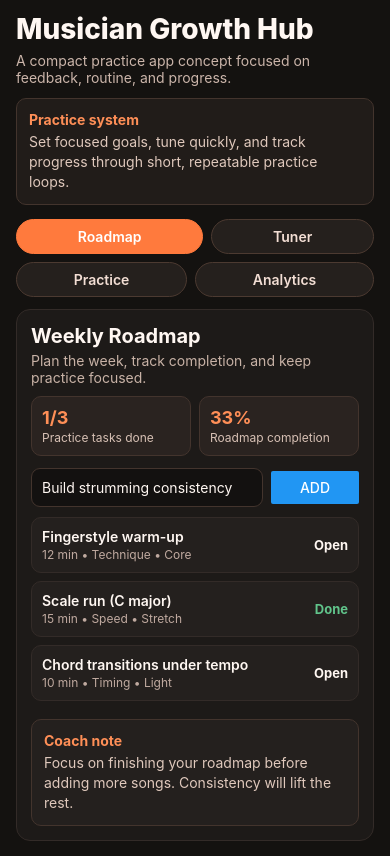
App › adds and completes a roadmap item
Replace the text in the field named "new practice goal" with "Lock in barre chords". click: (147, 488)
box: [31, 468, 263, 507]
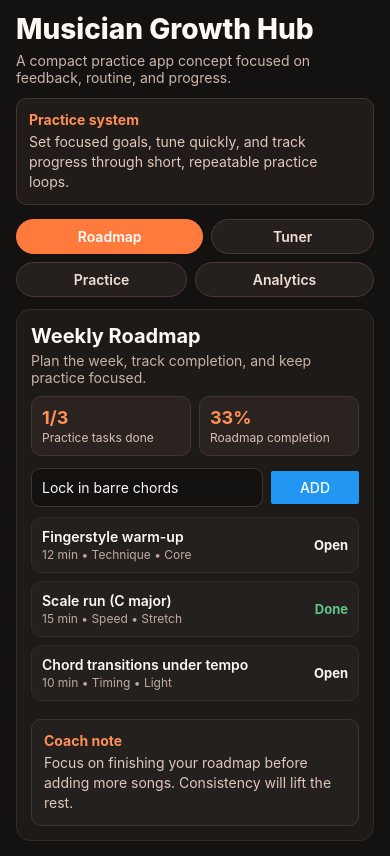
Click the button "Add". click: (315, 488)
box: [271, 471, 359, 504]
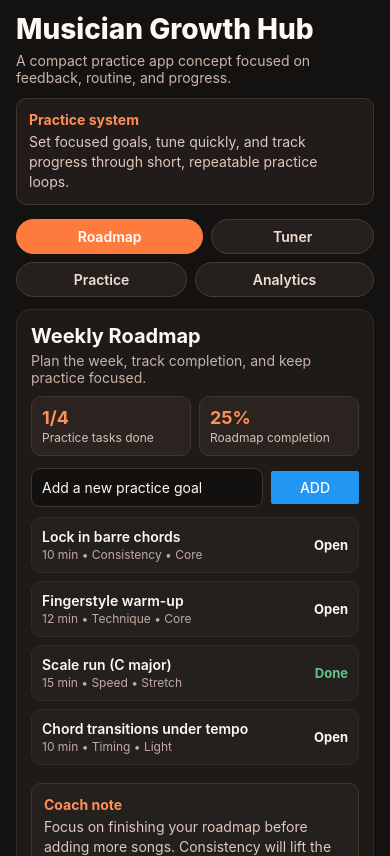
Result: the text "Lock in barre chords" is shown at [42, 528, 180, 545]
Click the button with aria-label "Lock in barre chords, open". click: (195, 545)
box: [31, 517, 359, 573]
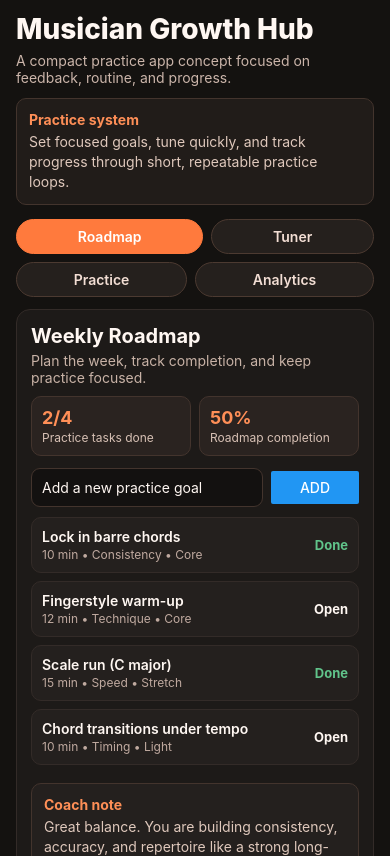
Result: the button with aria-label "Lock in barre chords, done" is shown at [31, 517, 359, 573]
